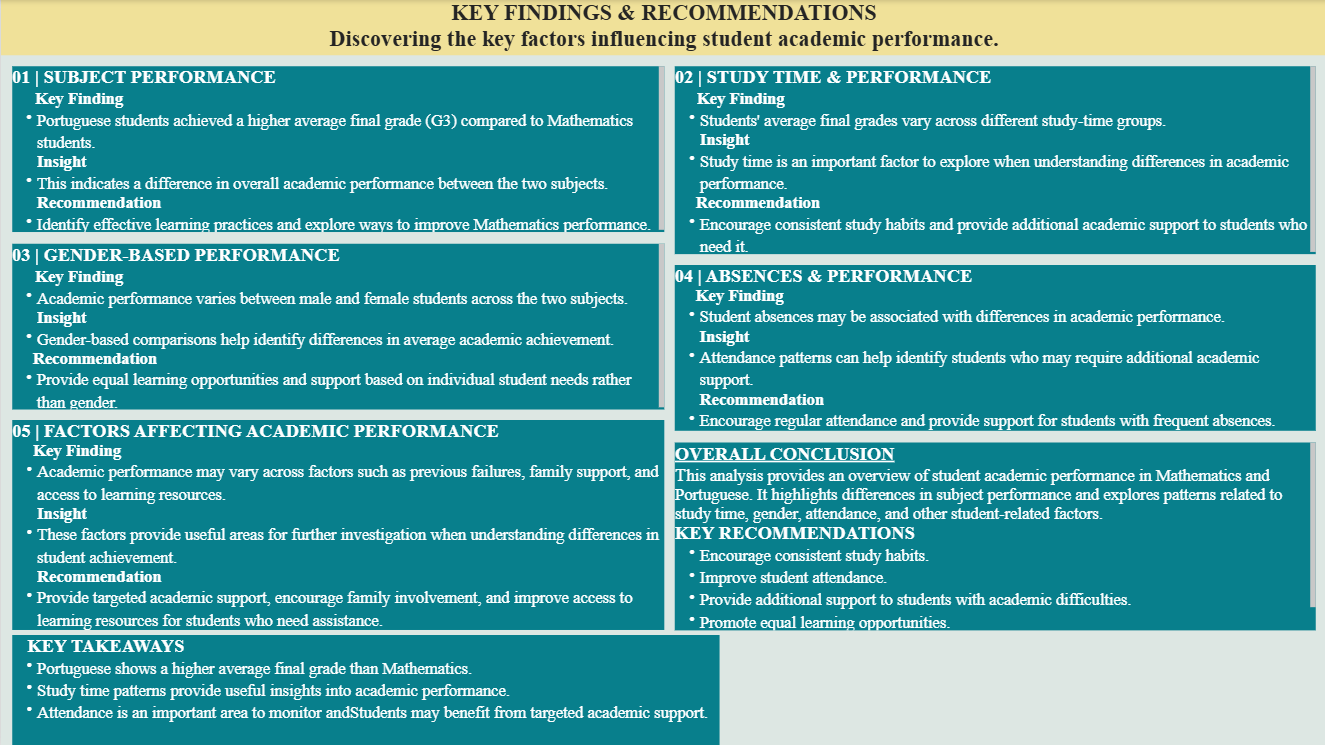

Layout of this report page (visuals, bound fields, positions):
{"tool":"powerbi","page":{"name":"Insights & Recommendations","canvas":[1920,1080],"ordinal":1},"visuals":[{"type":"textbox","box":[0,0,1920,80],"z":0},{"type":"textbox","box":[16,96,944,240],"z":1},{"type":"textbox","box":[976,96,928,272],"z":2},{"type":"textbox","box":[16,352,944,240],"z":3},{"type":"textbox","box":[976,384,928,240],"z":4},{"type":"textbox","box":[16,608,944,304],"z":5},{"type":"textbox","box":[976,640,928,272],"z":6},{"type":"textbox","box":[16,920,1024,160],"z":7}]}

Visuals, with their boxes in screenshot pixels (x1, y1, x2, y2), scaled from the page's 1920x1080 canvas onto the 1325x745 screenshot:
textbox: left=0, top=0, right=1324, bottom=55
textbox: left=11, top=66, right=662, bottom=232
textbox: left=674, top=66, right=1314, bottom=254
textbox: left=11, top=243, right=662, bottom=408
textbox: left=674, top=265, right=1314, bottom=430
textbox: left=11, top=419, right=662, bottom=629
textbox: left=674, top=441, right=1314, bottom=629
textbox: left=11, top=635, right=718, bottom=744
